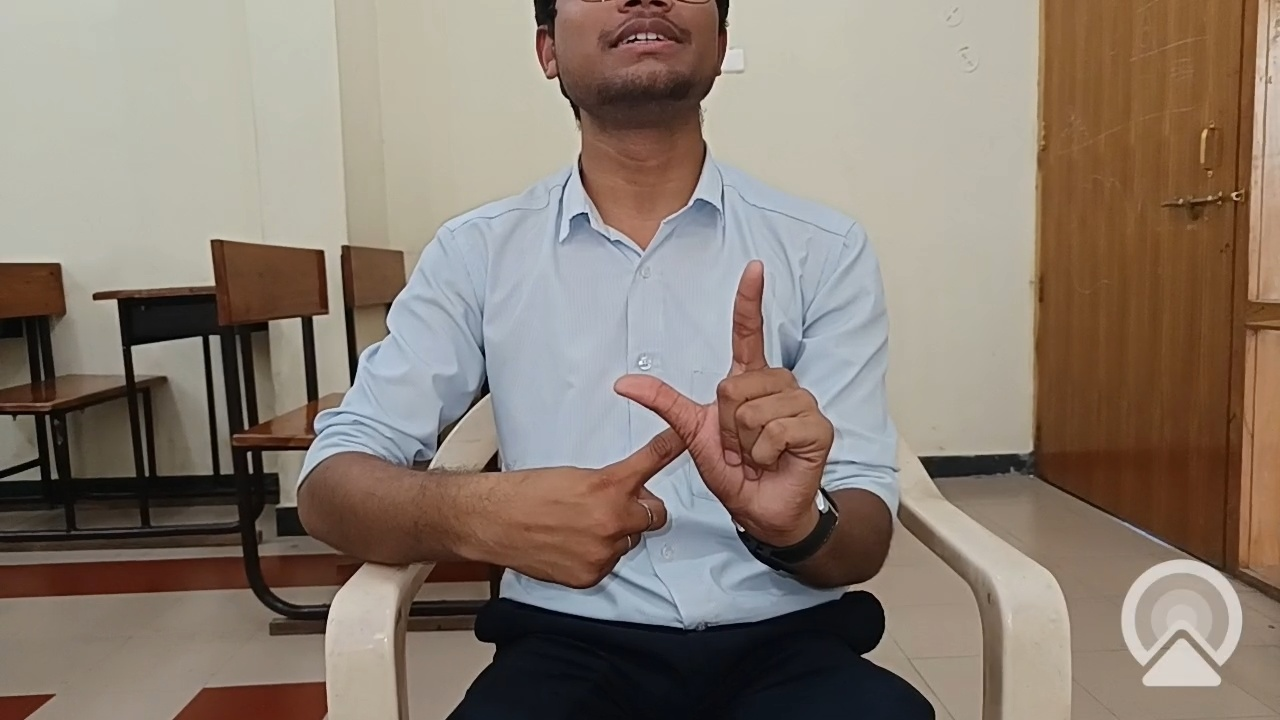Y: (443, 237, 868, 612)
